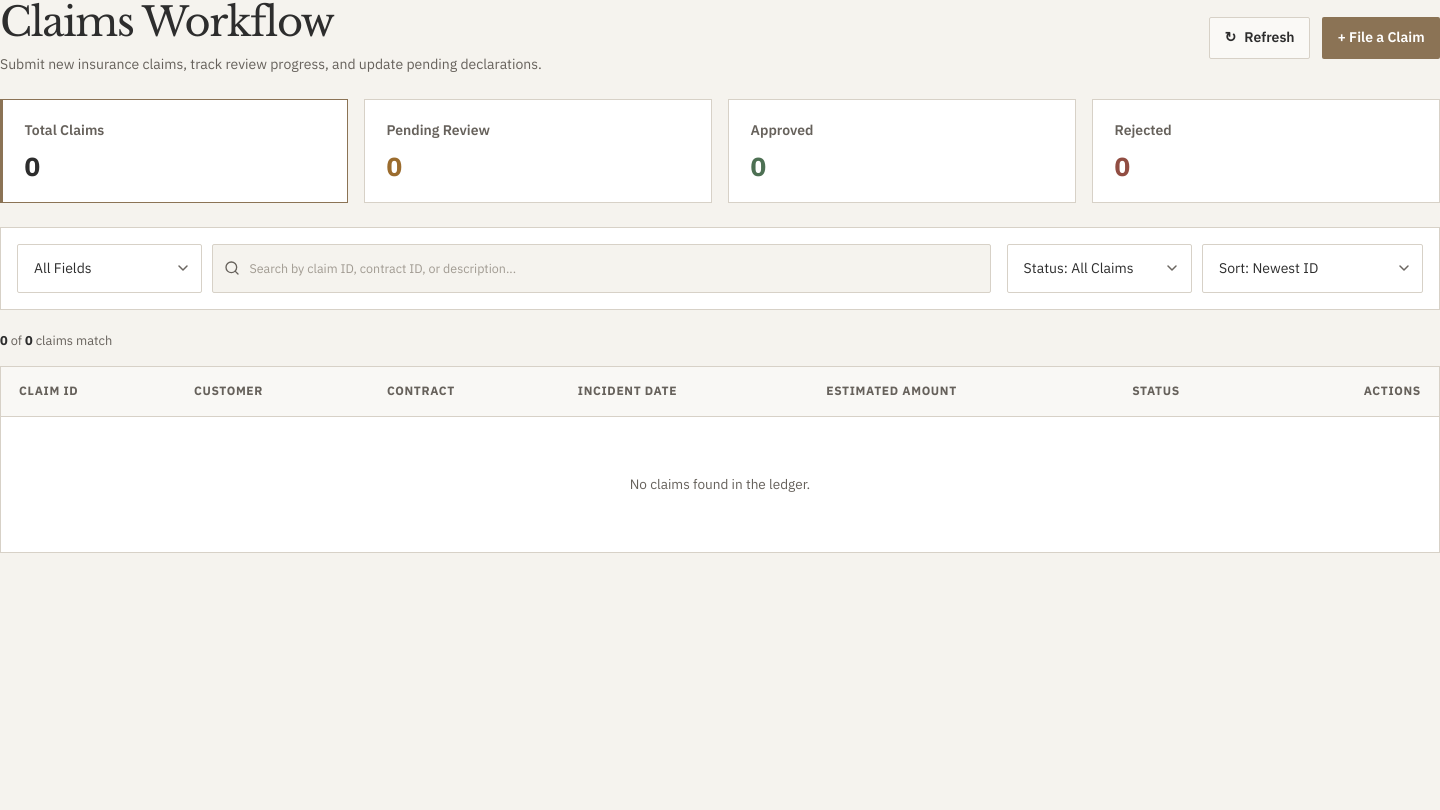
it: a customer submits a claim against a listed contract
Click the button "+ File a Claim" at {"x": 1381, "y": 38}, box [1322,17,1439,59]
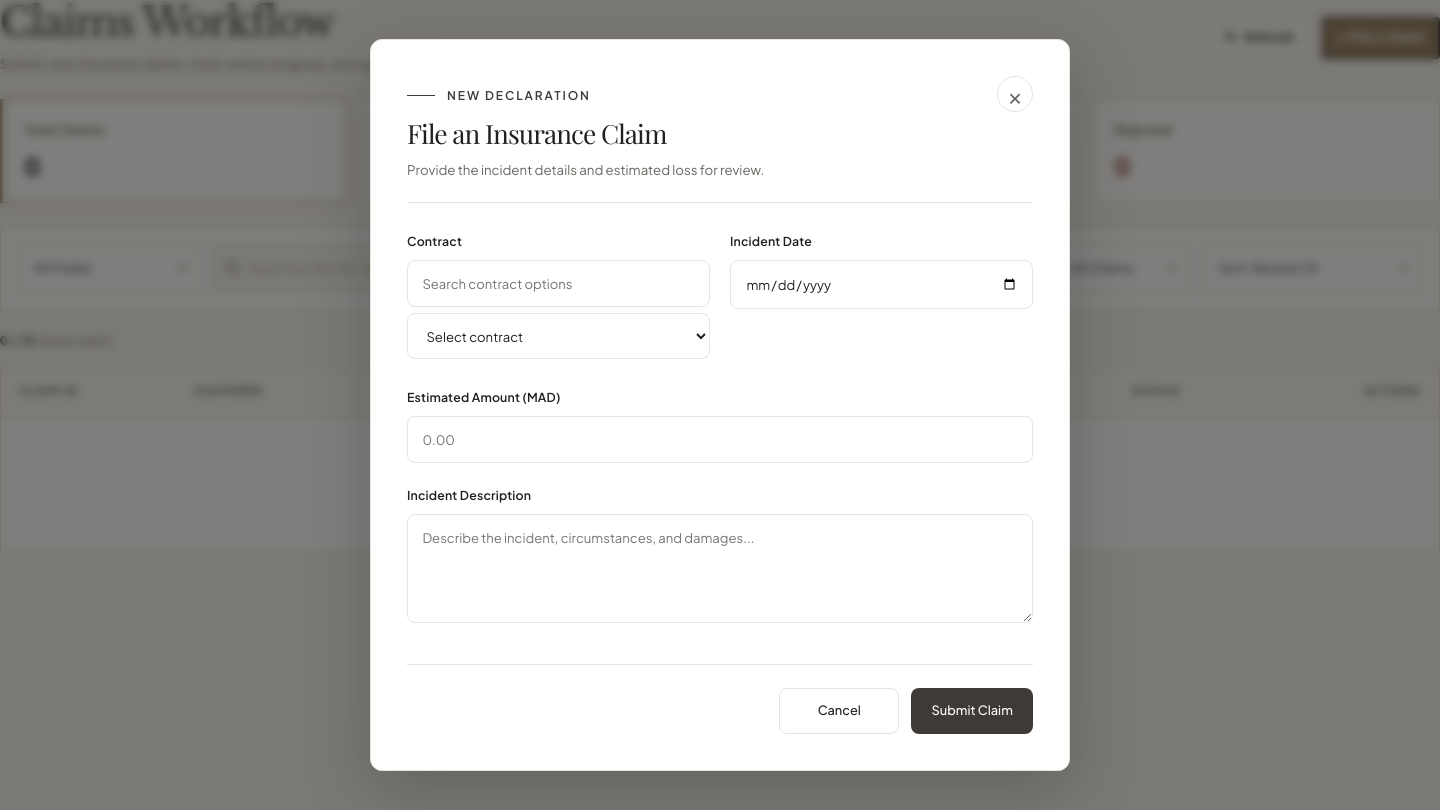
Select "Contract #3 — Road cover" in the dropdown labelled "Contract" at {"x": 558, "y": 336}, box [407,313,710,359]
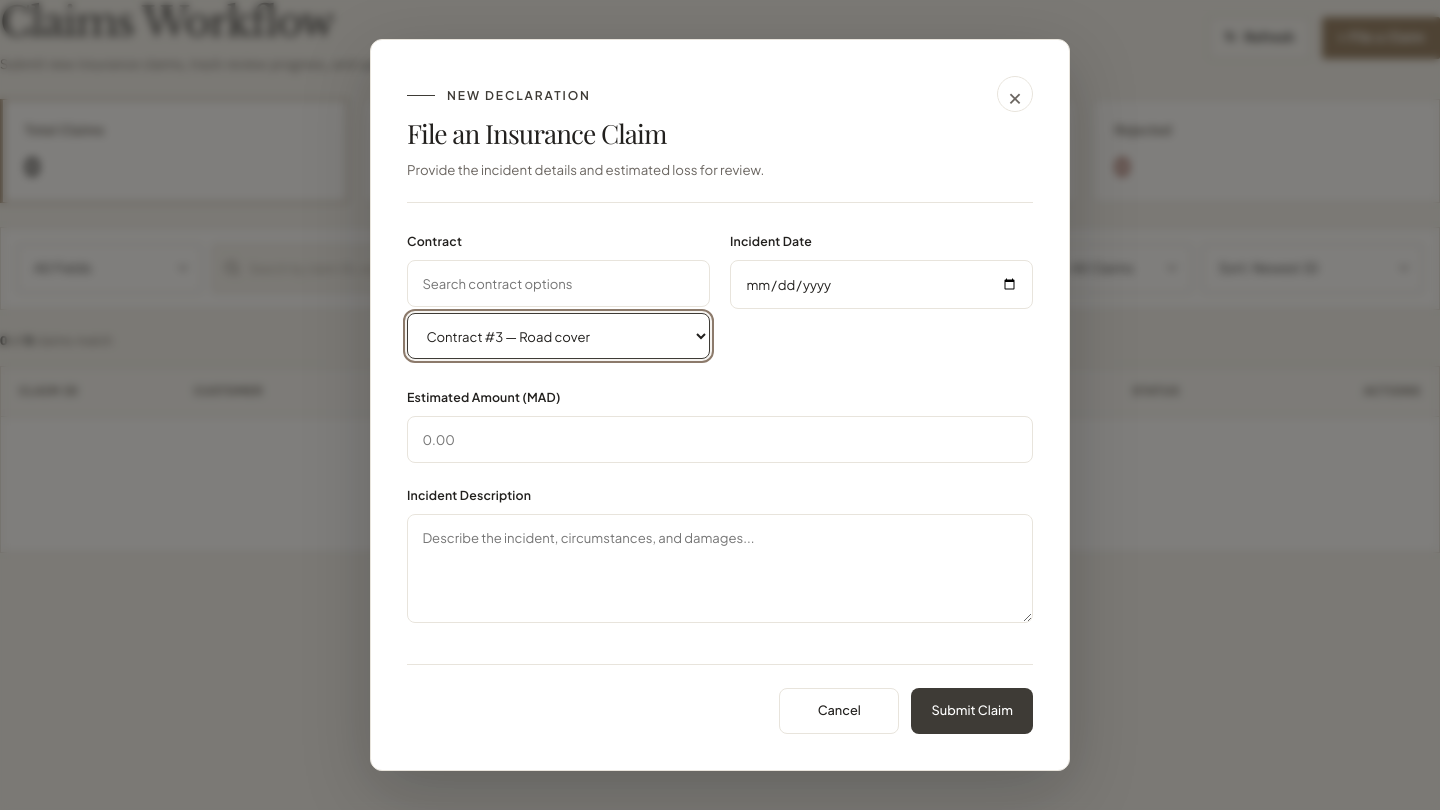
Type "2025-05-01" into the date field labelled "Incident Date" at {"x": 882, "y": 285}, box [730,260,1033,309]
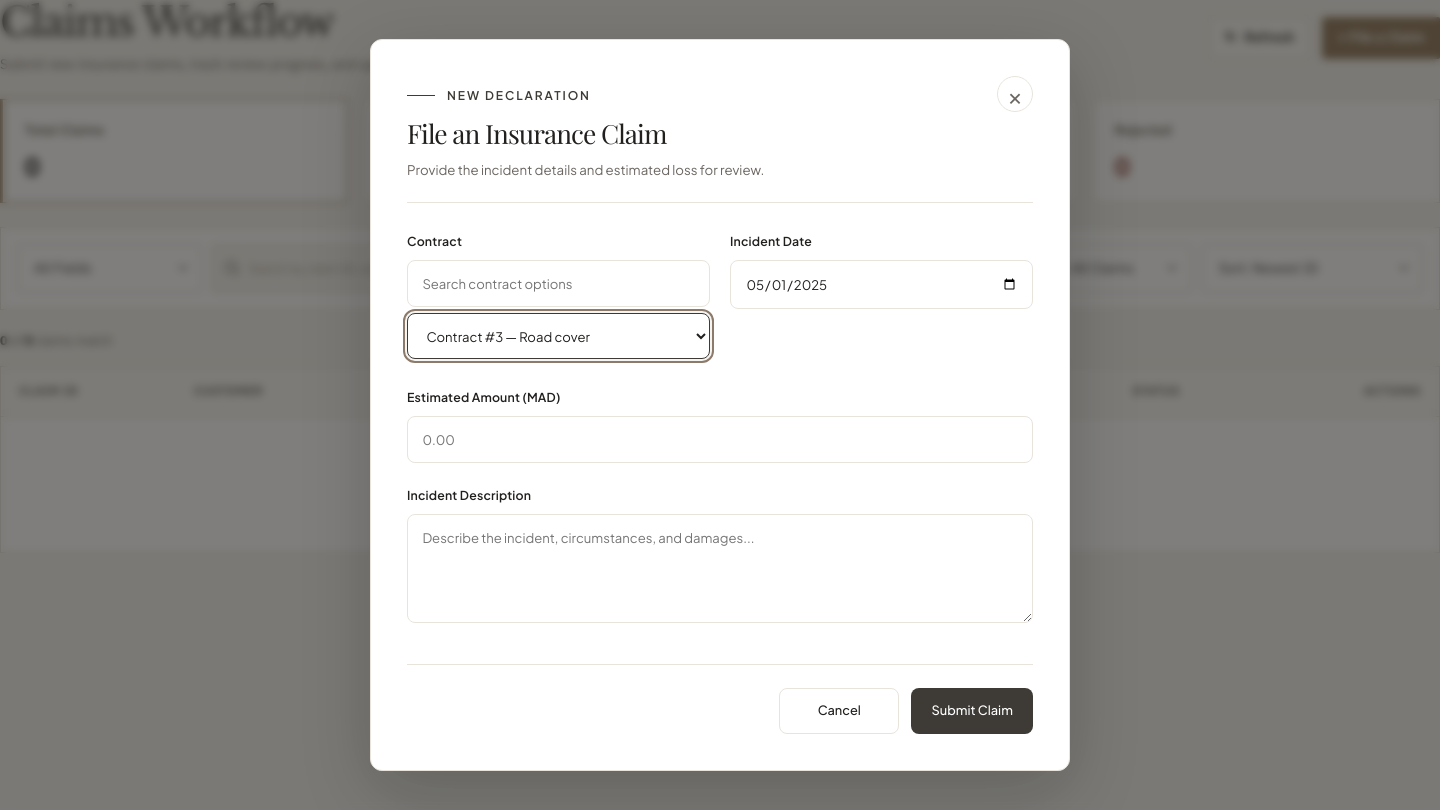
Type "500" into the number field labelled "Estimated Amount (MAD)" at {"x": 720, "y": 440}, box [407,416,1033,463]
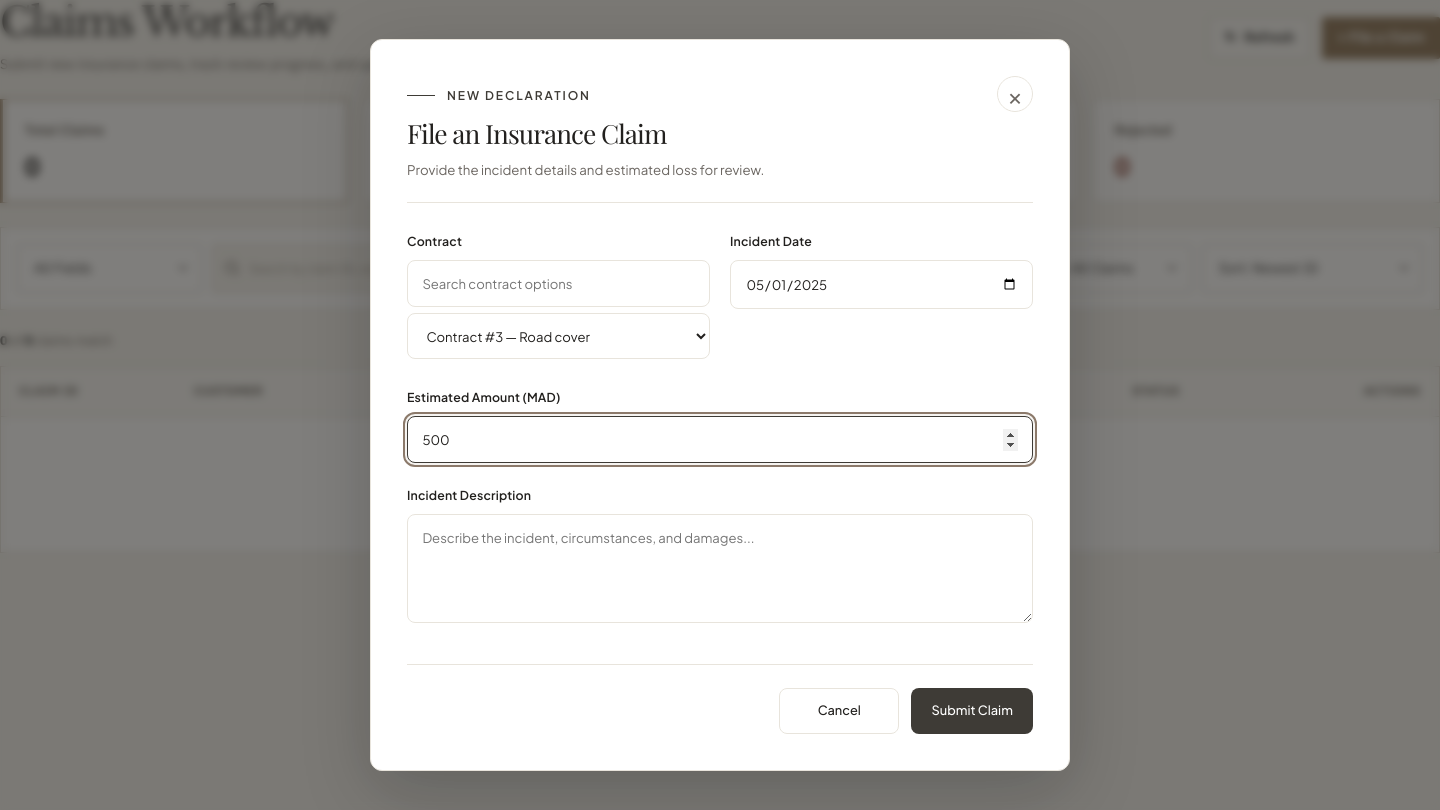
Type "Windshield damage" into the text box labelled "Incident Description" at {"x": 720, "y": 569}, box [407,514,1033,623]
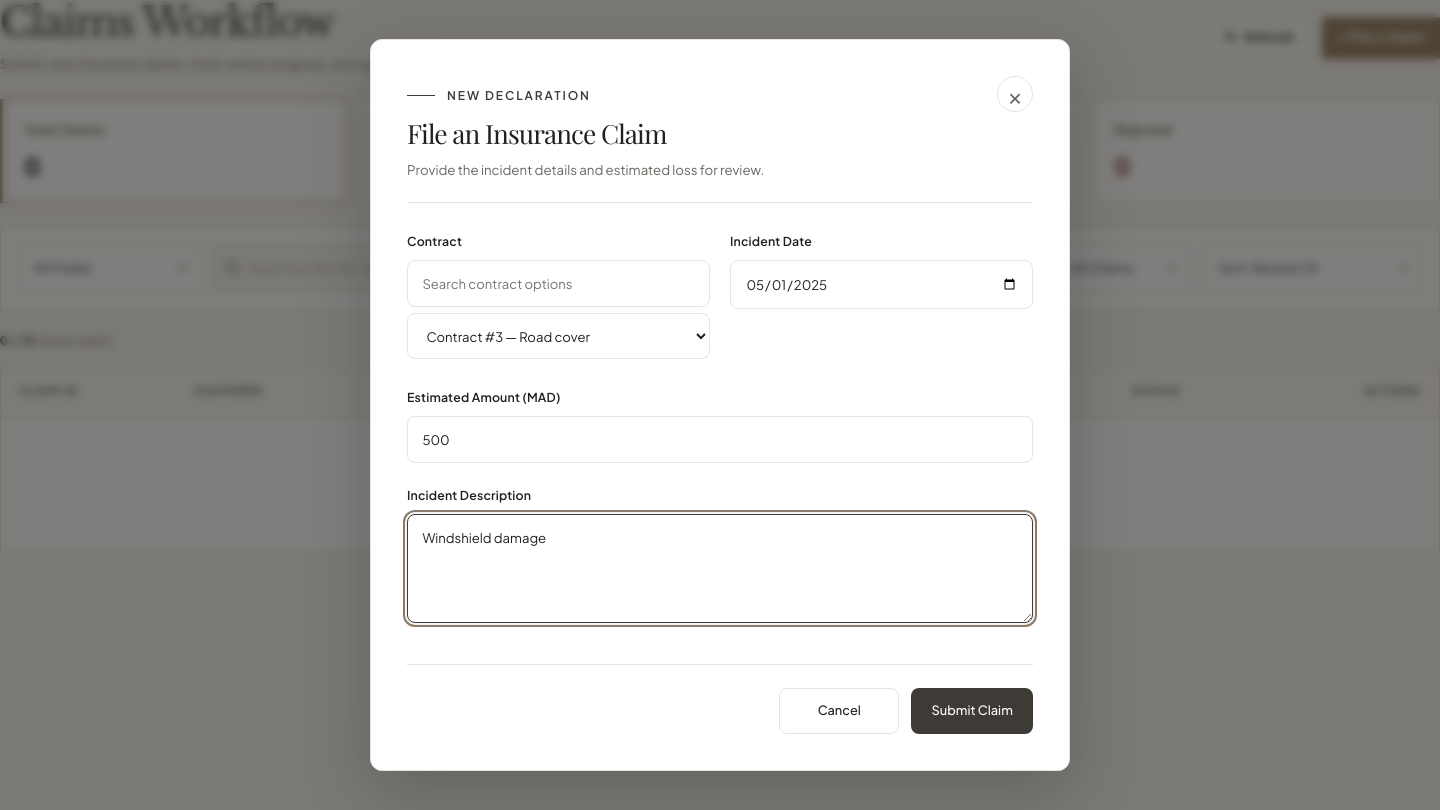
Click the button "Submit Claim" at {"x": 972, "y": 711}, box [911,688,1033,734]
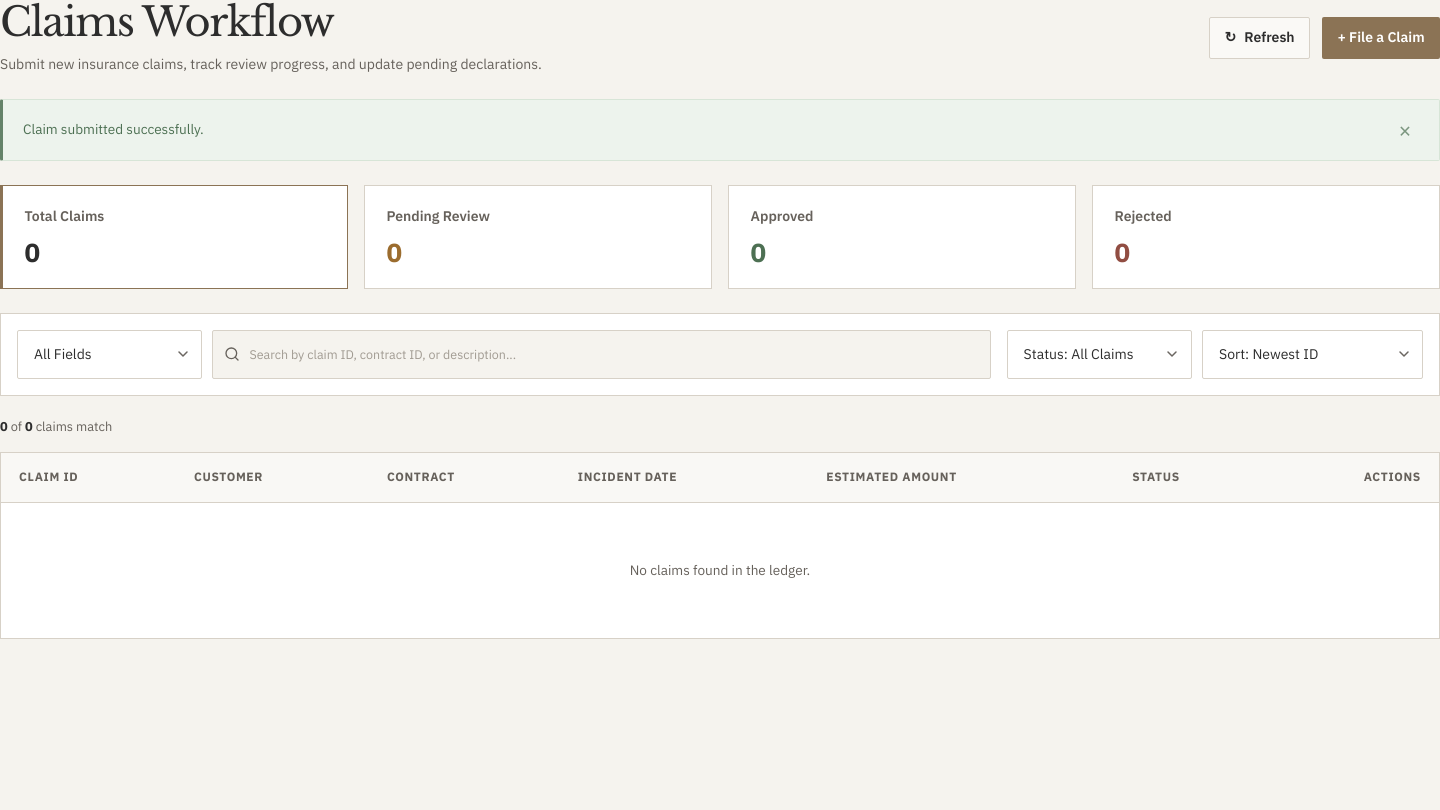
Expected: the text "Claim submitted successfully." is shown, [23,119,204,141]
